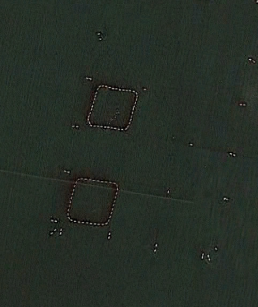square: (79, 76, 152, 139), (61, 170, 126, 232)
